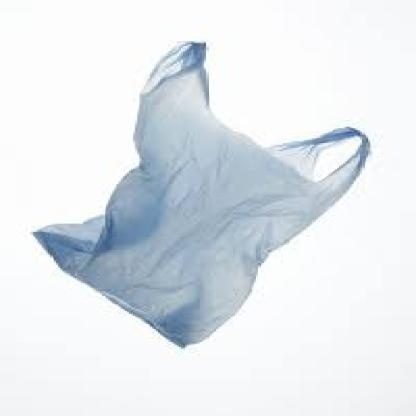trash: (34, 42, 368, 345)
